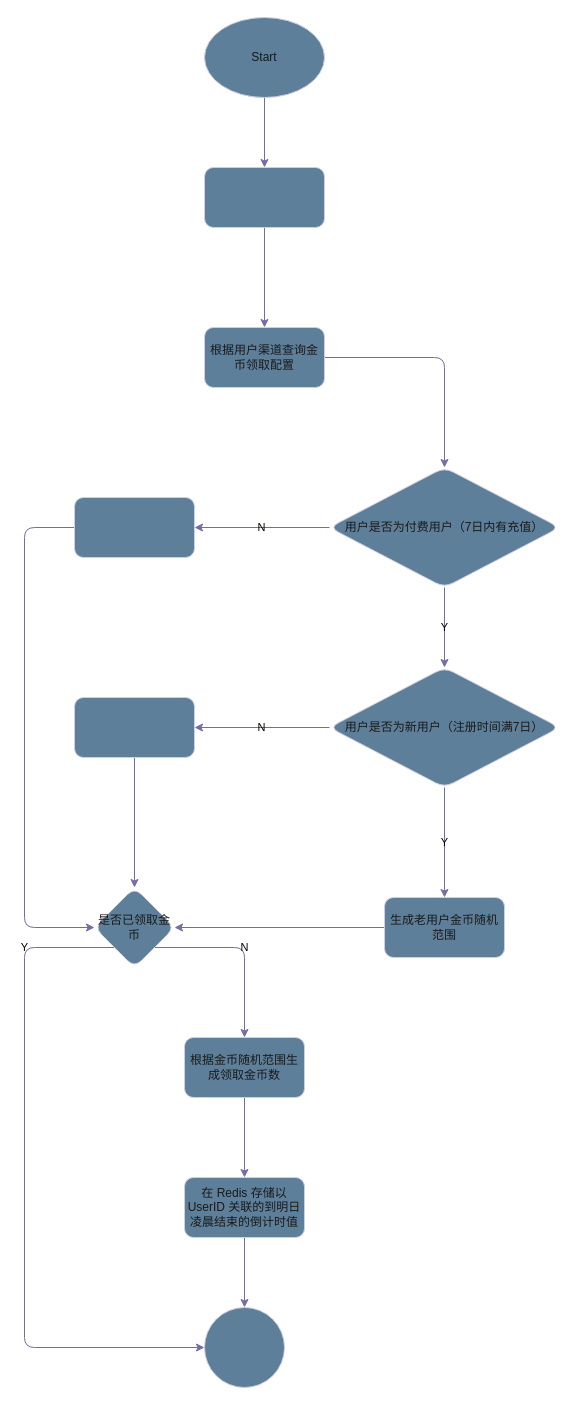
Some shapes in this 577 by 1405 pixel diagram are drawn without their labels. Each missing label, with the centre of its shape:
"End" goes at (x=244, y=1347).
"根据 UserID 从 Redis中查询今日金币领取金额" goes at (x=264, y=197).
"生成付费用户金币随机范围" goes at (x=134, y=527).
"生成新用户金币随机范围" goes at (x=134, y=727).
